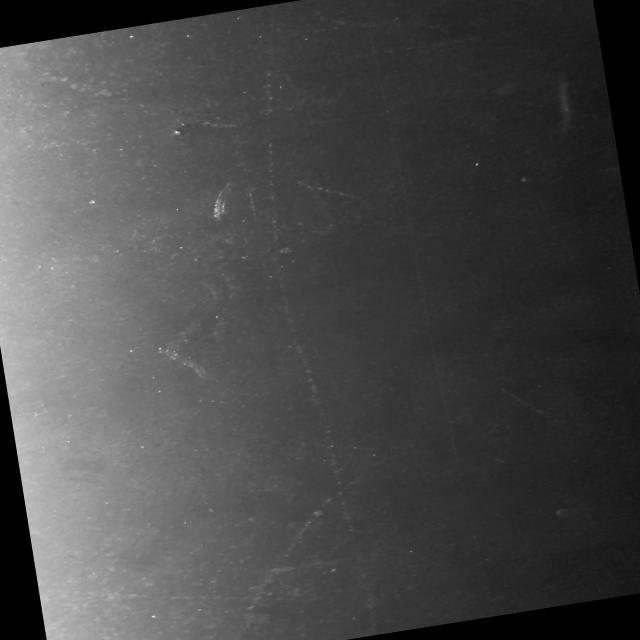beta: (229, 1, 384, 640), (222, 452, 419, 618), (42, 38, 242, 156), (39, 550, 294, 638), (323, 19, 544, 66), (497, 376, 578, 439), (516, 86, 612, 135), (308, 0, 409, 40), (294, 170, 360, 208)
